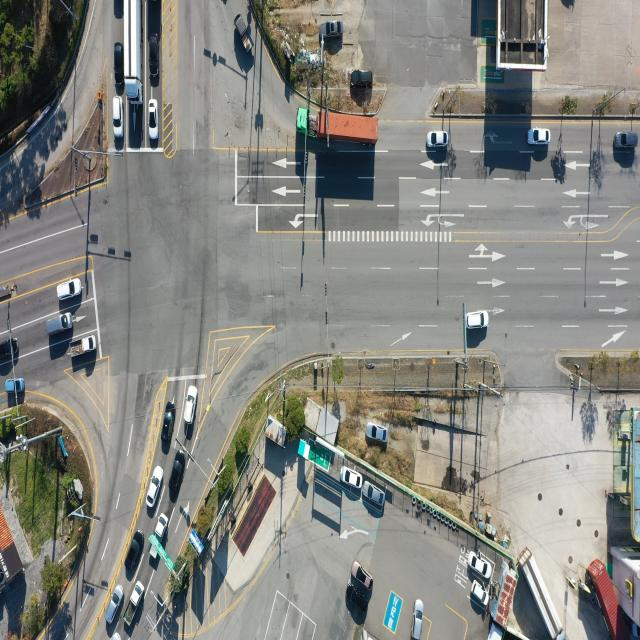car: (169, 452, 186, 503), (105, 584, 124, 624), (146, 464, 163, 508), (345, 582, 367, 614), (45, 312, 73, 336), (126, 534, 144, 571), (351, 561, 373, 590), (162, 404, 175, 452), (471, 552, 492, 580), (56, 279, 82, 301), (149, 34, 160, 84), (363, 483, 384, 507), (470, 580, 488, 608), (412, 600, 424, 640), (184, 386, 196, 426), (342, 466, 363, 488), (465, 311, 489, 330), (365, 422, 387, 442), (616, 132, 640, 150), (117, 44, 126, 91), (116, 95, 126, 136), (148, 98, 158, 138), (351, 69, 373, 87), (527, 129, 550, 146), (4, 335, 19, 361), (426, 131, 448, 148), (322, 21, 343, 38), (4, 379, 24, 395)
large_truck: (298, 110, 379, 146)
medium_truck: (524, 547, 566, 638), (126, 3, 144, 102)
small_truck: (148, 512, 169, 564), (123, 582, 145, 628), (236, 14, 254, 55), (70, 335, 98, 358)
